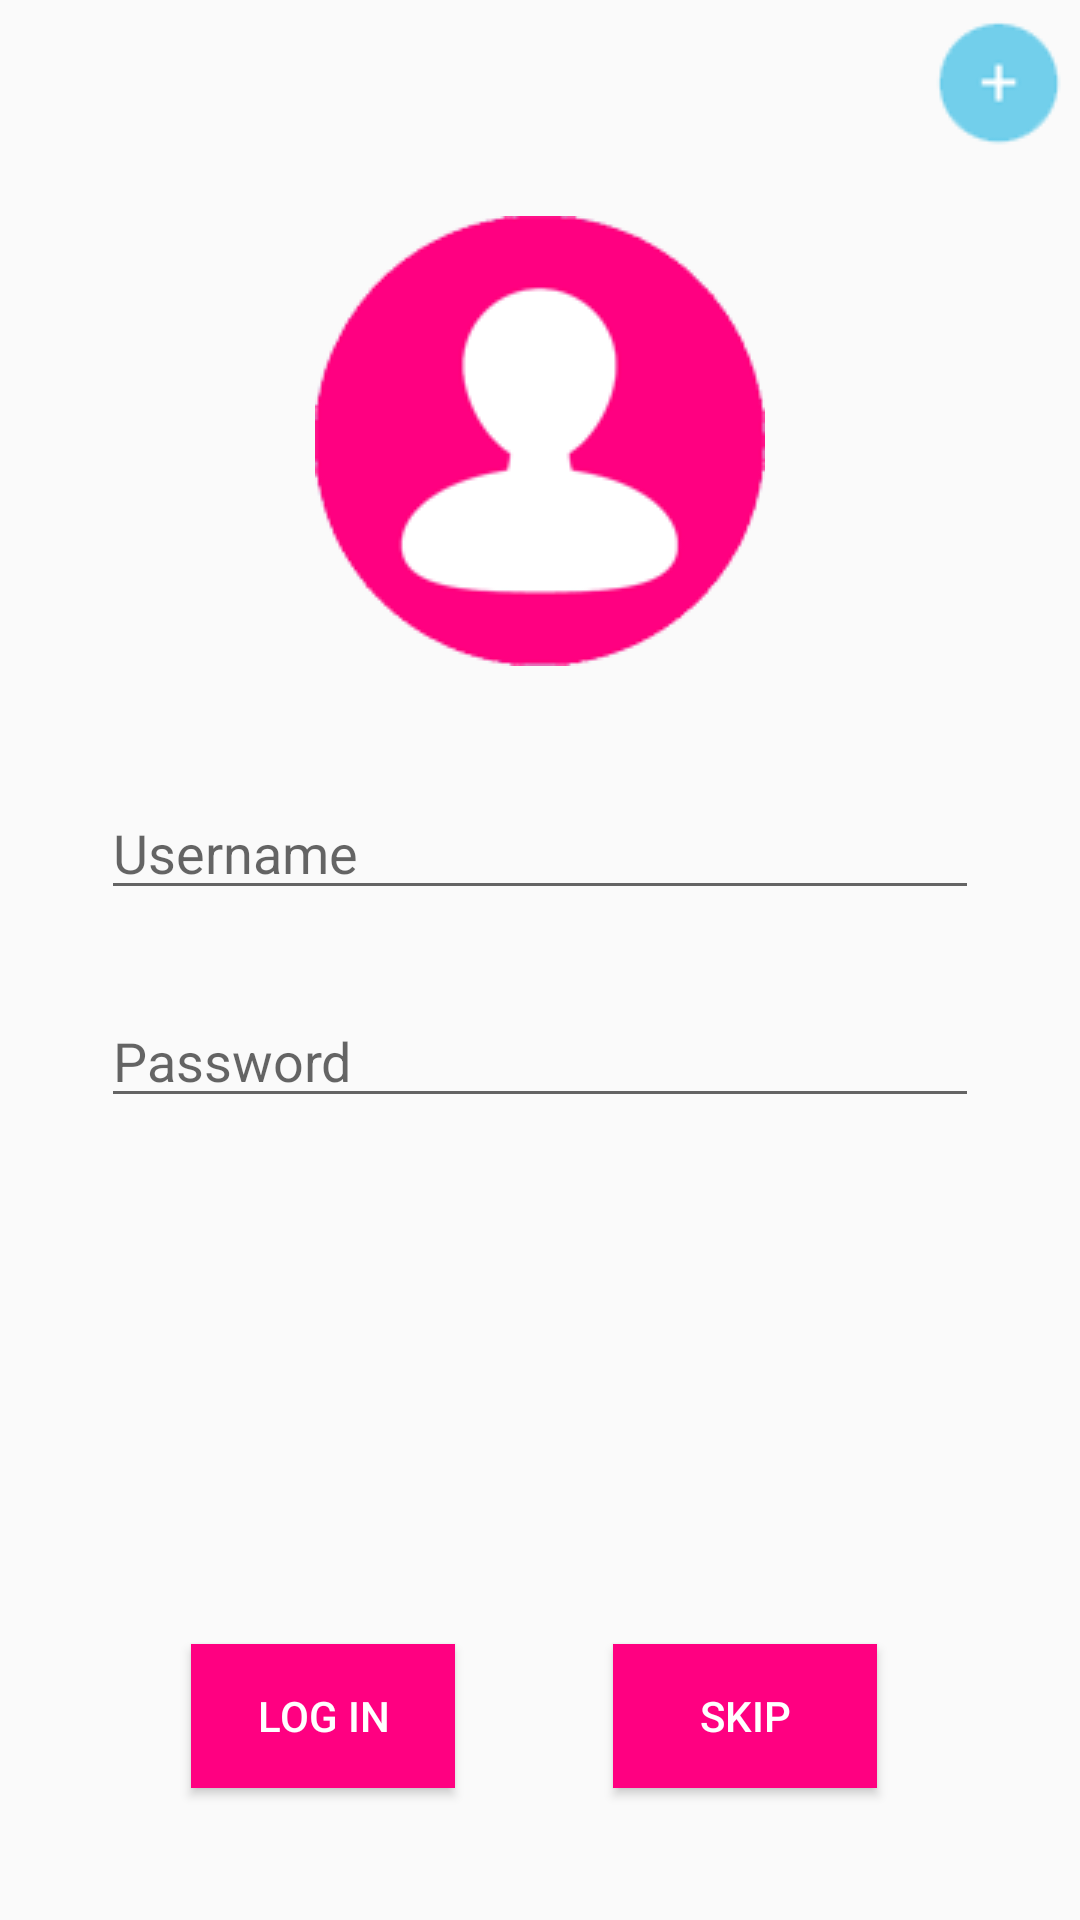

Icons on this 1080*1920 Android screen, each with the point to tap as point (x, y):
add: point (999, 83)
